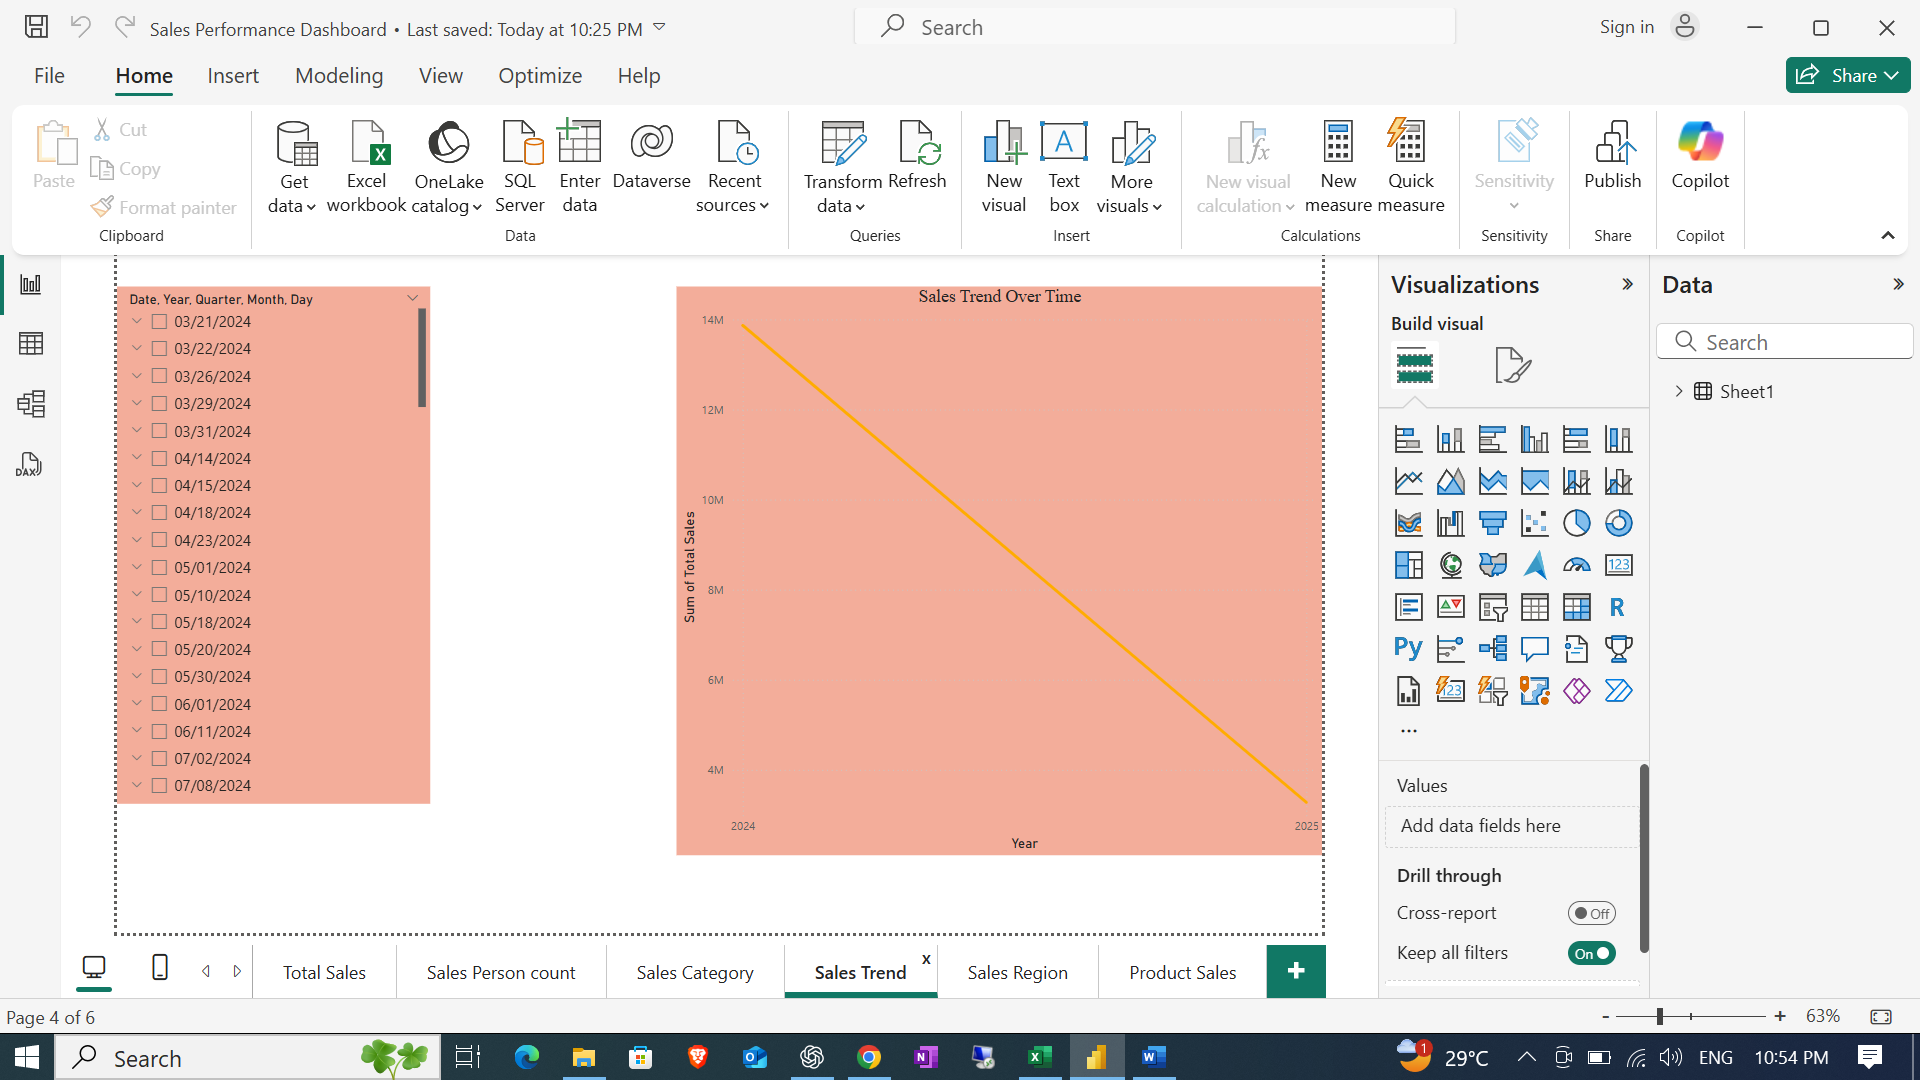

The dashboard page shown, as its layout file describes it:
{"tool":"powerbi","page":{"name":"Sales Trend","canvas":[1280,720],"ordinal":3},"visuals":[{"type":"lineChart","title":"Sales Trend Over Time","fields":{"Category":["Sheet1.Date.Variation.Date Hierarchy.Year","Sheet1.Date.Variation.Date Hierarchy.Quarter","Sheet1.Date.Variation.Date Hierarchy.Month","Sheet1.Date.Variation.Date Hierarchy.Day"],"Y":["Sum(Sheet1.Total Sales)"]},"box":[594.2,33.5,686.5,603.7],"z":0},{"type":"slicer","fields":{"Values":["Sheet1.Date","Sheet1.Date.Variation.Date Hierarchy.Year","Sheet1.Date.Variation.Date Hierarchy.Quarter","Sheet1.Date.Variation.Date Hierarchy.Month","Sheet1.Date.Variation.Date Hierarchy.Day"]},"box":[0,33.5,332.9,549.6],"z":1000}]}

Visuals, with their boxes on the page's 1280x720 design canvas (x1, y1, x2, y2). These are canvas units, not pixel positions in the 1920x1080 screenshot, which may show the page scaled, cropped or inside an application window:
"Sales Trend Over Time" lineChart: [left=594, top=34, right=1281, bottom=637]
slicer - Sheet1.Date x Sheet1.Date.Variation.Date Hierarchy.Year: [left=0, top=34, right=333, bottom=583]
